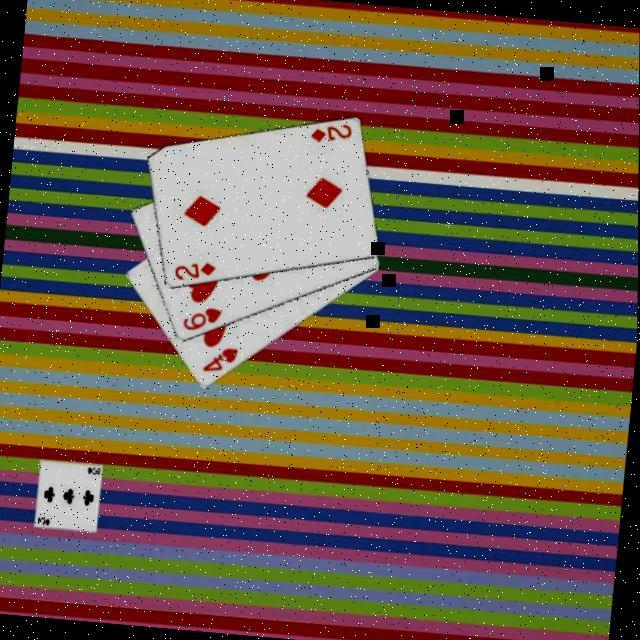2D: (306, 118, 354, 148), (170, 257, 218, 286)
4H: (198, 342, 240, 378)
6H: (178, 302, 223, 336)
